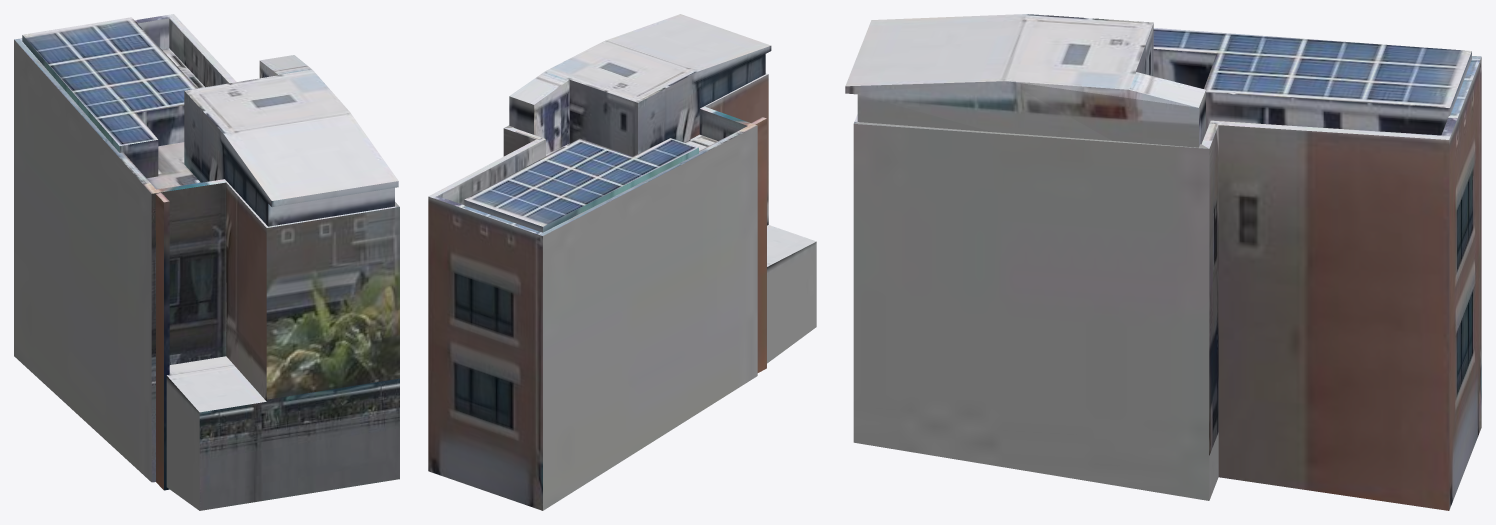
3 views of the same model, side by side, from view 1: azimuth 30°, elevation 25°; view 2: azimuth 150°, elevation 25°; view 3: azimuth 270°, elevation 25° (orthographic). The views are drawn at different scales.
Visible parts, largest first — view 1: B280154034201063A0; view 2: B280154034201063A0; view 3: B280154034201063A0.
Boxes of the visible parts, x1,y1,x2,y2 form: B280154034201063A0: [14, 14, 399, 510]; B280154034201063A0: [428, 14, 816, 510]; B280154034201063A0: [845, 14, 1481, 510].
Bounding box in the file's own units: 7.15 × 10.87 × 14.84.
Materials: 1 (1 with a texture image).
